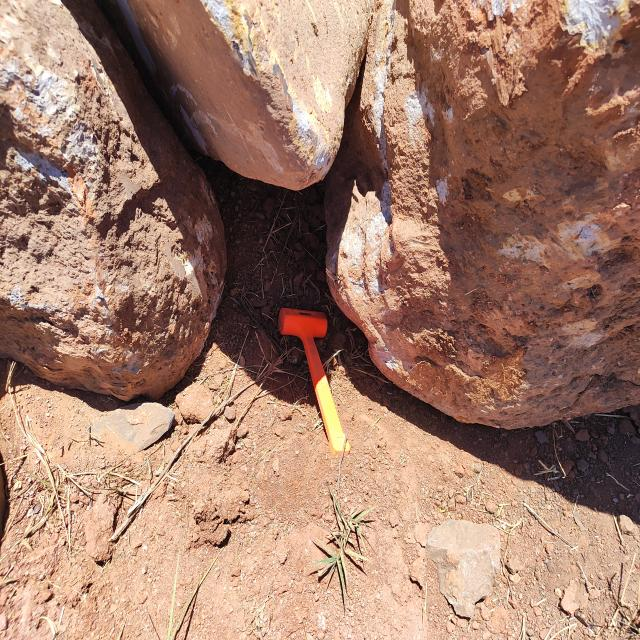Orange_hammer: (277, 306, 351, 456)
